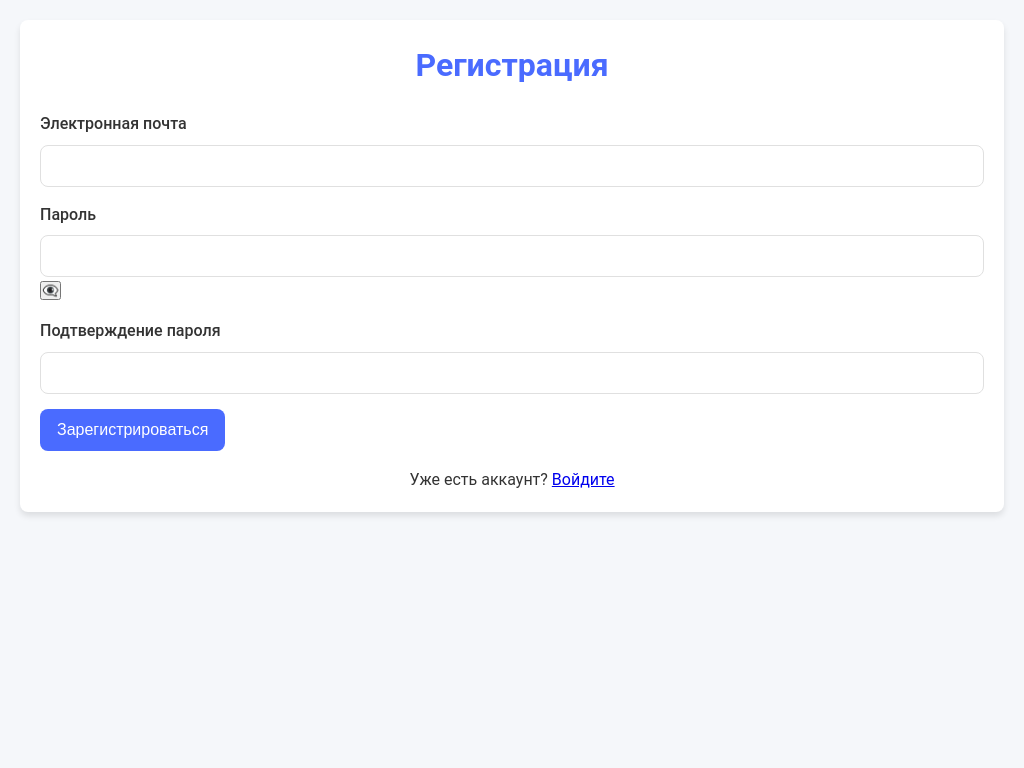
Test: Register Component › показывает сообщение об ошибке при неудачной регистрации
Note: Заполняем форму
Type "existing@example.com" into the field labelled "Электронная почта" at x=512, y=166, box left=40, top=145, right=984, bottom=187
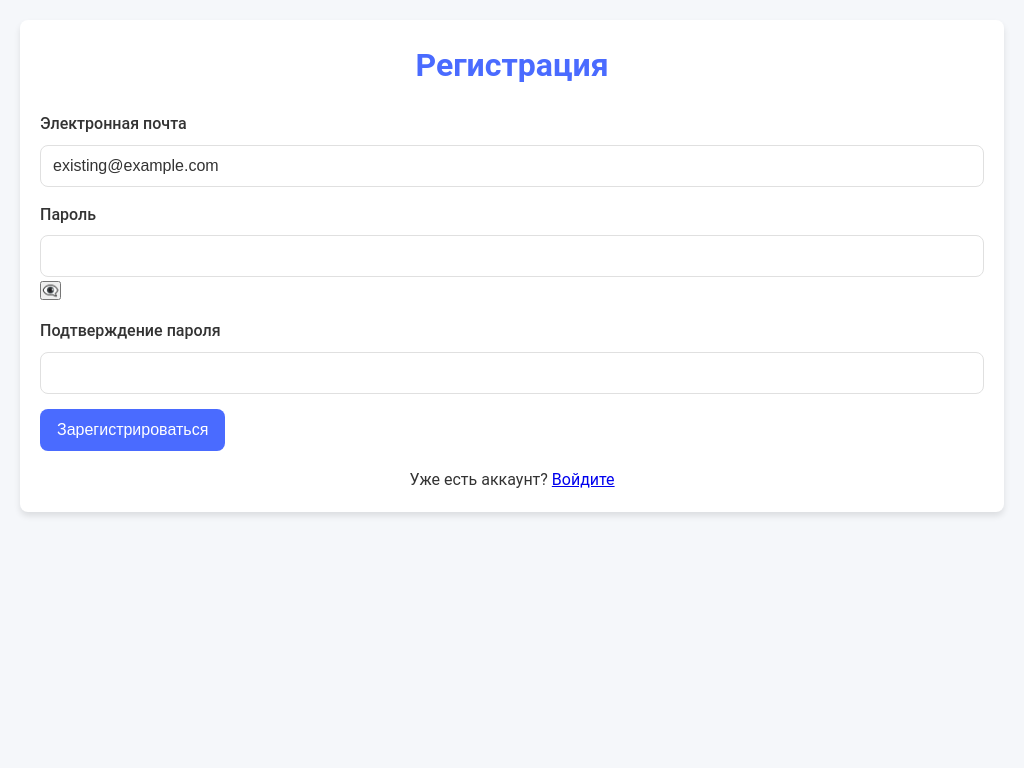
Type "password123" into the password field labelled "Пароль" at x=512, y=256, box left=40, top=235, right=984, bottom=277
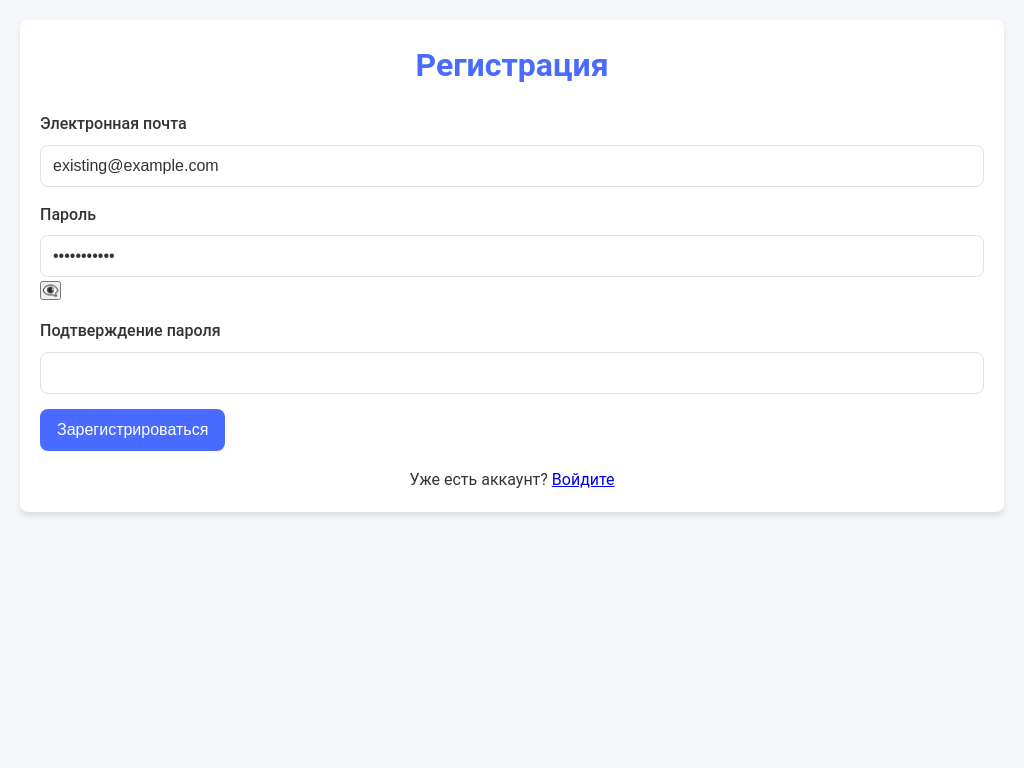
Type "password123" into the password field labelled "Подтверждение пароля" at x=512, y=373, box left=40, top=352, right=984, bottom=394
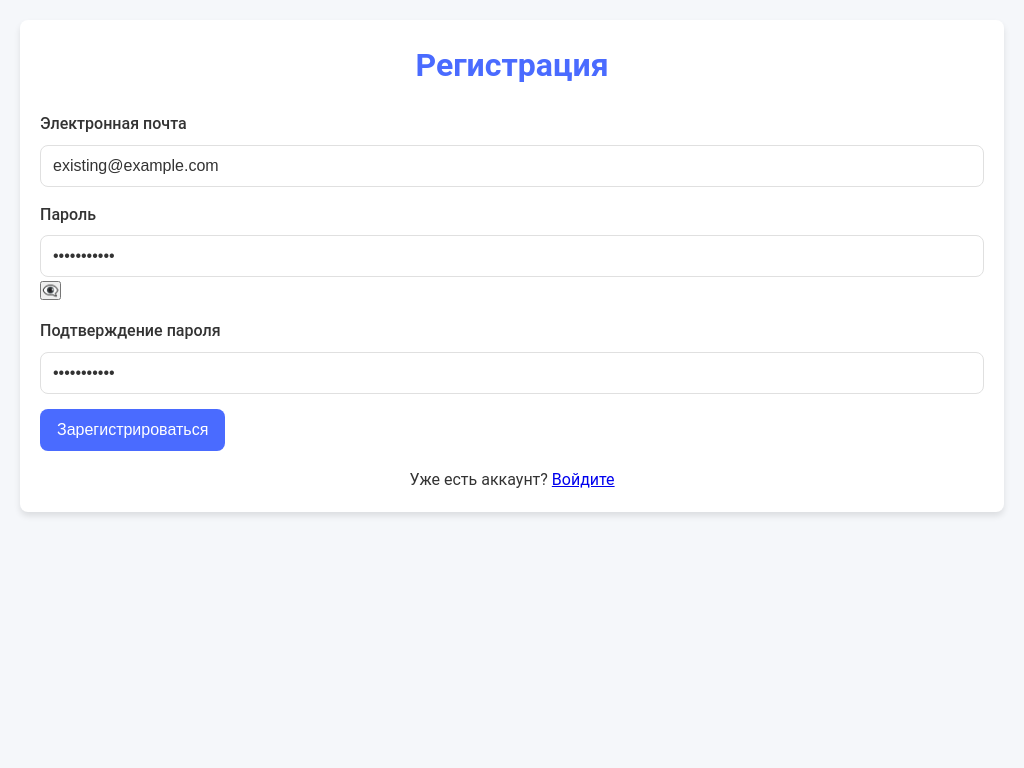
Note: Отправляем форму
Click the button "Зарегистрироваться" at x=133, y=430, box left=40, top=409, right=225, bottom=451
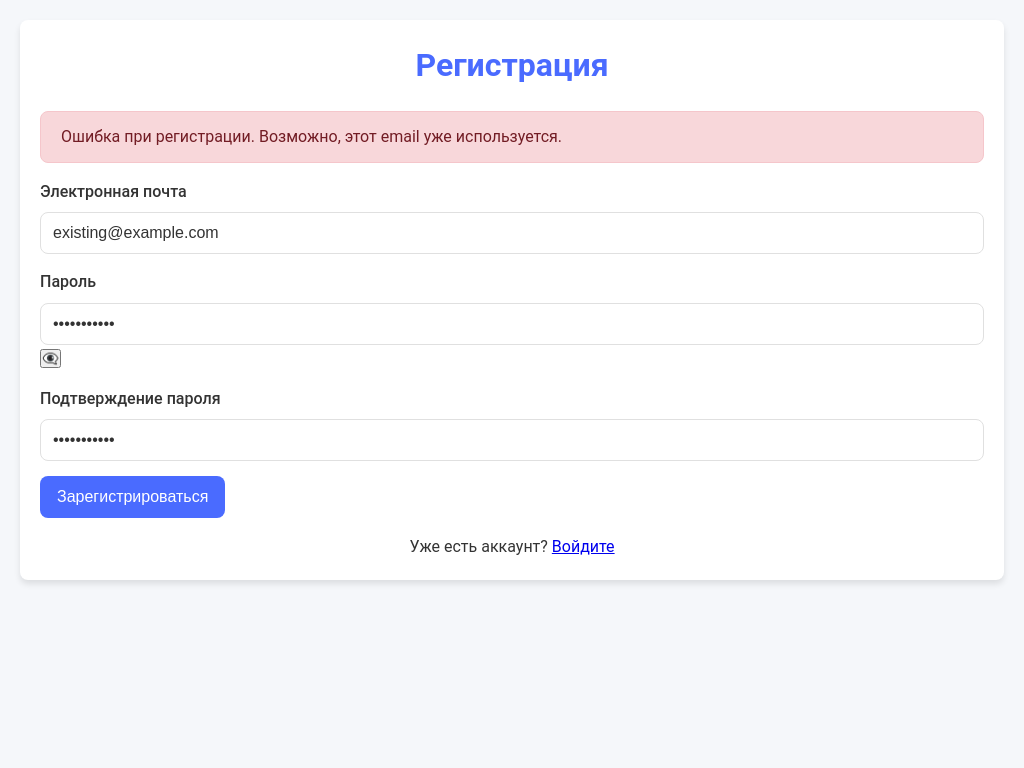
expect the text "Ошибка при регистрации. Возможно, этот email уже используется." is shown: met, box left=40, top=111, right=984, bottom=163
